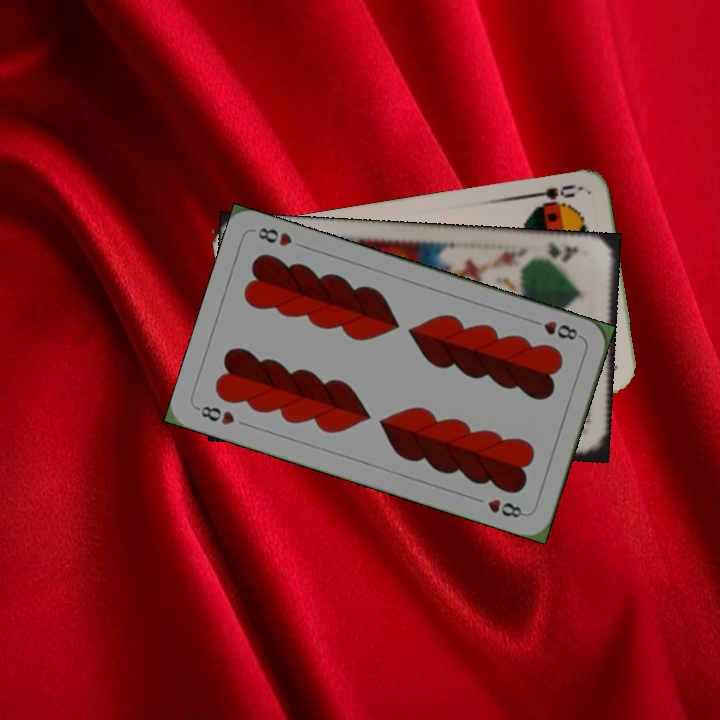GK: (543, 237, 580, 265)
H8: (526, 315, 584, 343), (193, 401, 238, 428)
SO: (523, 180, 582, 211)
